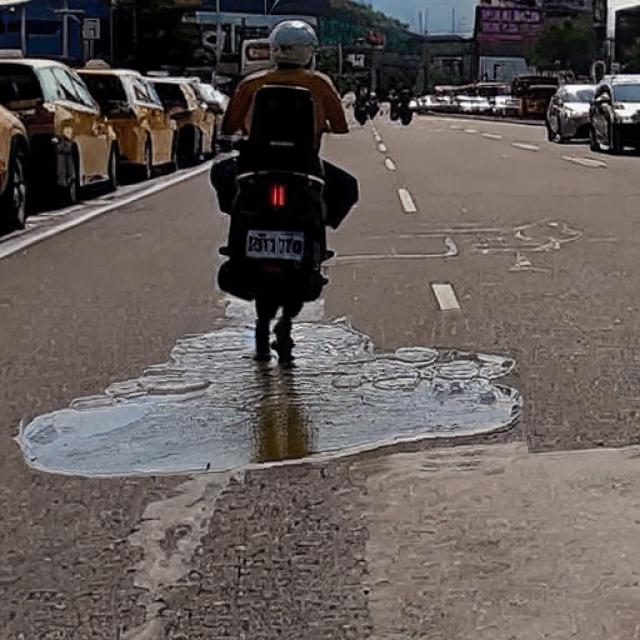puddle: (19, 312, 527, 478)
